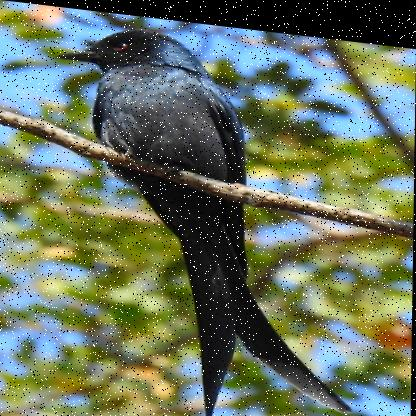Burung: (51, 21, 358, 415)
